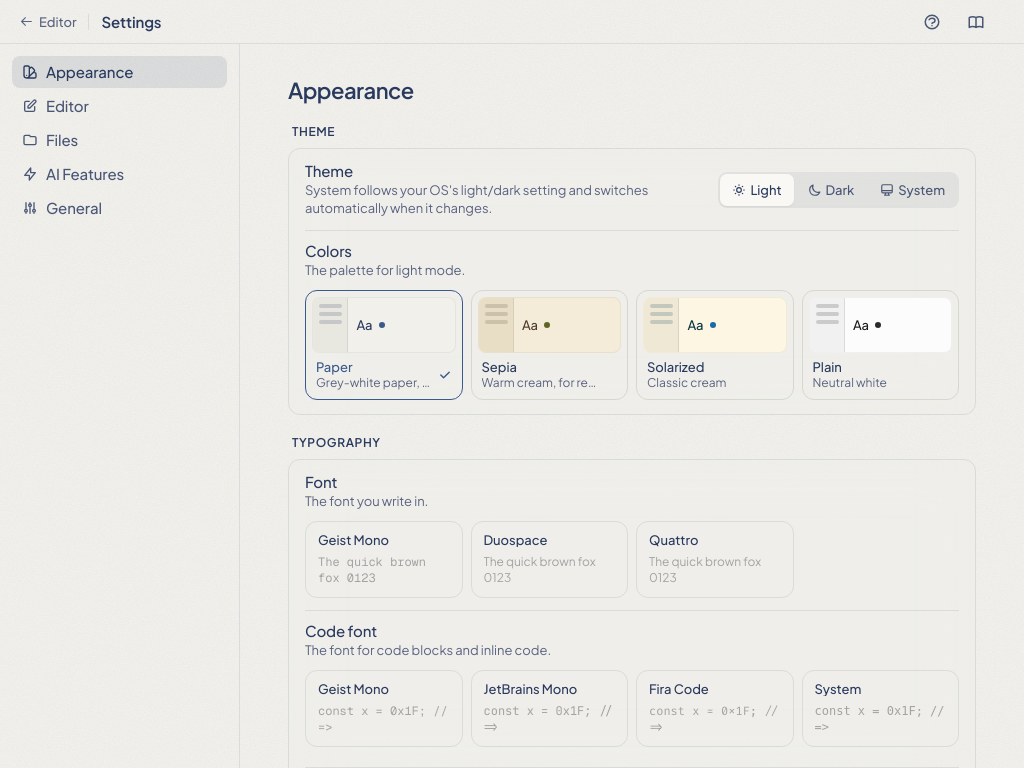
Scenario: SettingsPage › puts profile and data first and help and about last in General, with no tour
The image size is (1024, 768).
Expected: the text "Guide" is not shown
Click the button "General" at (120, 208), box x1=12 y1=192 x2=227 y2=224
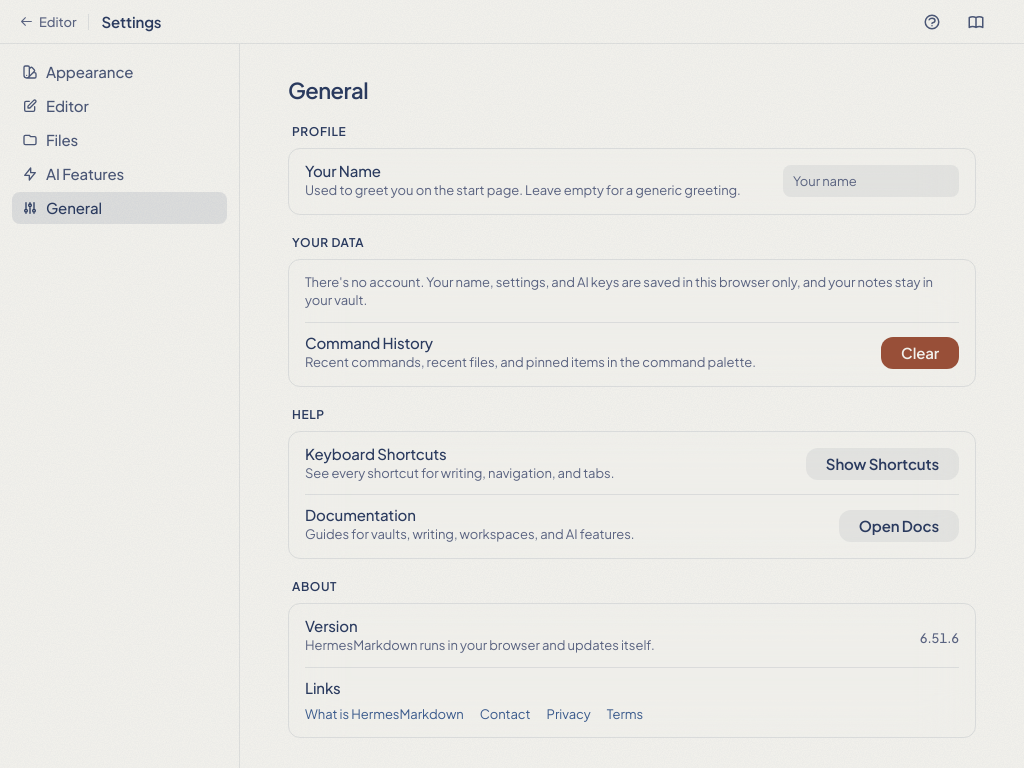
Now the text "There's no account" is shown, box x1=305 y1=274 x2=933 y2=308
